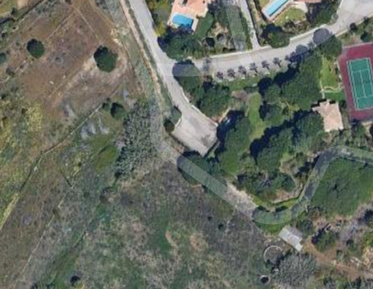pool: (171, 15, 195, 29), (266, 1, 286, 12)
